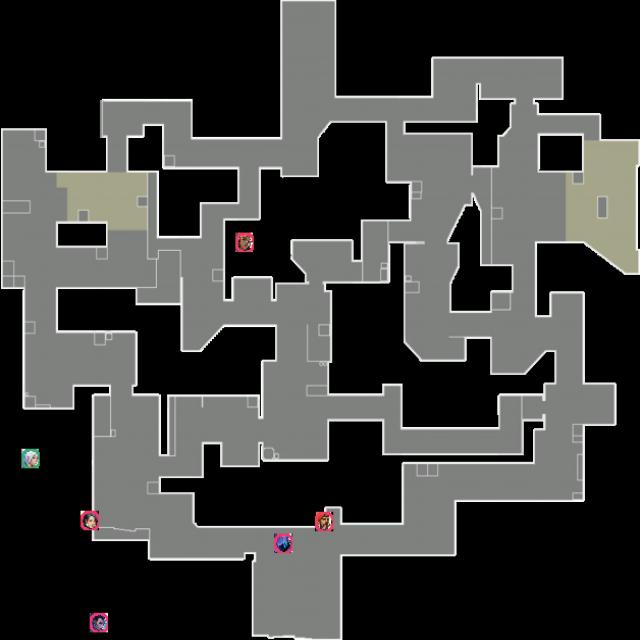atk_brimstone: (315, 512, 333, 531)
atk_omen: (274, 534, 293, 553)
atk_raze: (235, 233, 254, 252)
atk_sage: (80, 511, 99, 530)
atk_yoru: (90, 613, 108, 632)
def_jett: (21, 449, 40, 468)
